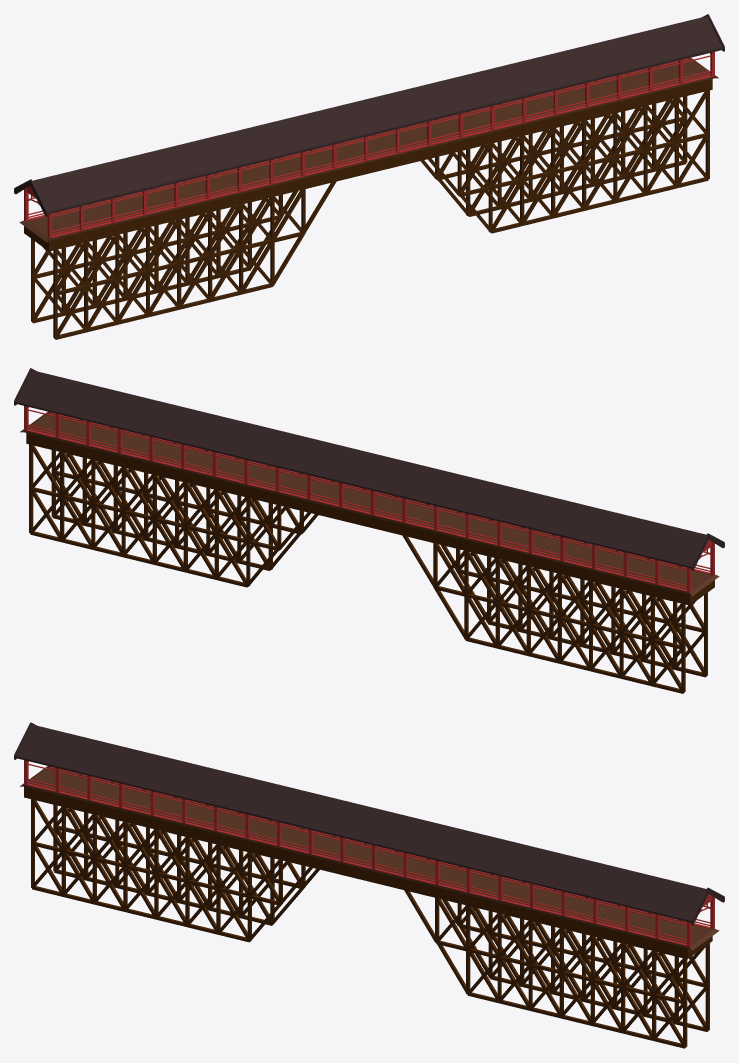
Rendered from PonteCSuporte.fbx.
3 renders of one model, top to bottom at view 1: azimuth 30°, elevation 25°; view 2: azimuth 150°, elevation 25°; view 3: azimuth 330°, elevation 25°, orthographic.
Parts seen in each view (by area): view 1: bridge, support; view 2: bridge, support; view 3: bridge, support.
Boxes of the visible parts, x1,y1,x2,y2 form: bridge: [14, 14, 724, 242]; support: [24, 79, 712, 339]; bridge: [14, 368, 724, 596]; support: [26, 433, 714, 693]; bridge: [14, 722, 724, 950]; support: [24, 786, 712, 1048].
Bounding box in the file's own units: 18655 × 4070 × 1551.
Materials: 1 (1 with a texture image).
